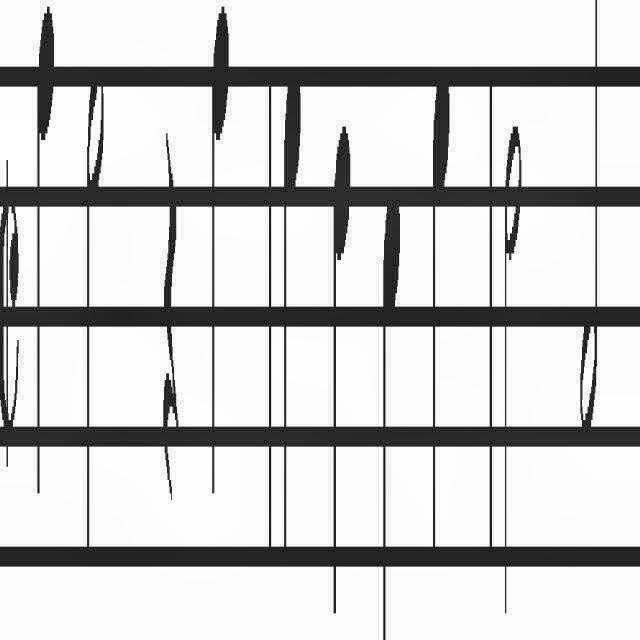Half-note: (500, 83, 528, 611), (575, 0, 603, 492), (84, 52, 110, 572)
Quarter-note: (325, 86, 357, 640), (203, 0, 235, 552), (278, 21, 306, 592), (428, 40, 454, 584), (30, 0, 58, 500), (378, 140, 404, 640)
Quarter-rest: (151, 59, 185, 562)
